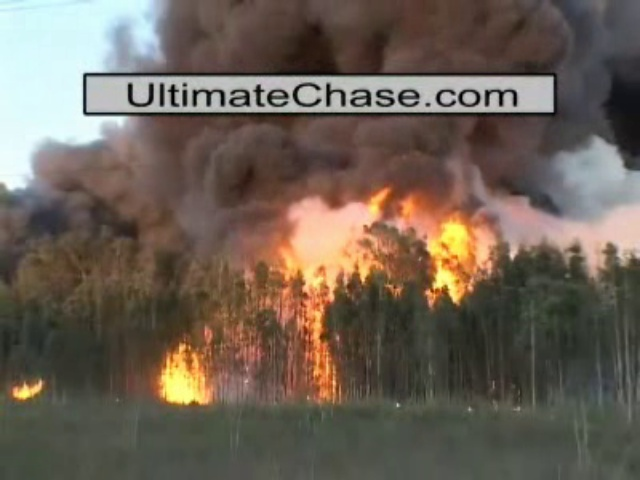fire: (284, 183, 495, 307), (159, 351, 214, 404)
